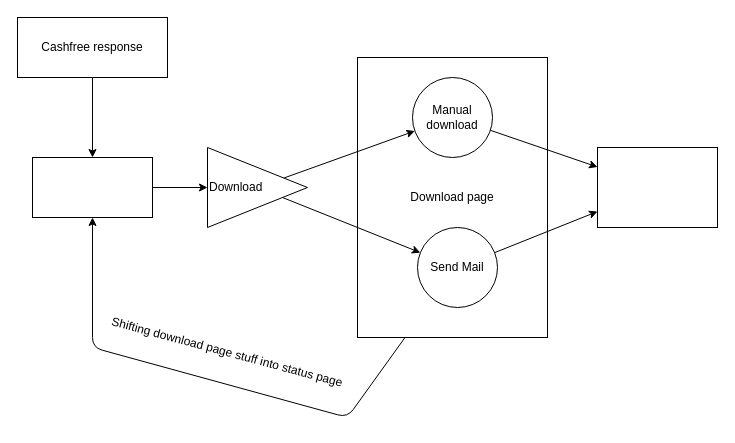
Some shapes in this 735 by 443 pixel diagram are drawn without their labels. The box of each missing label's shape, as (x1, y1, x2, y2) in pixels:
Back to Home: (596, 146, 718, 228)
Status display: (32, 156, 152, 218)
